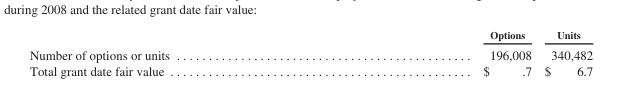table: (28, 28, 592, 77)
table column: (28, 28, 325, 77), (325, 28, 537, 77), (537, 28, 592, 77)
table column header: (28, 28, 592, 44)
table row: (28, 44, 592, 62), (28, 28, 592, 44), (28, 62, 592, 77)
